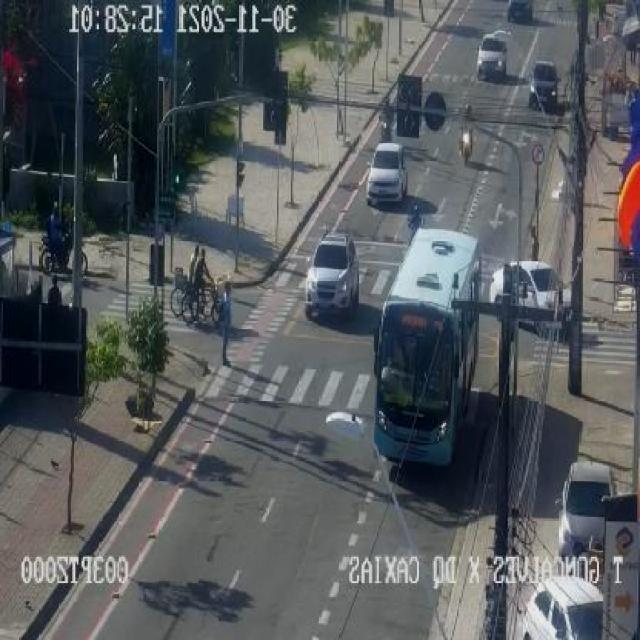Bus: (369, 230, 480, 466)
Car: (305, 232, 360, 320), (365, 143, 408, 204), (527, 59, 562, 106), (475, 32, 507, 77)
